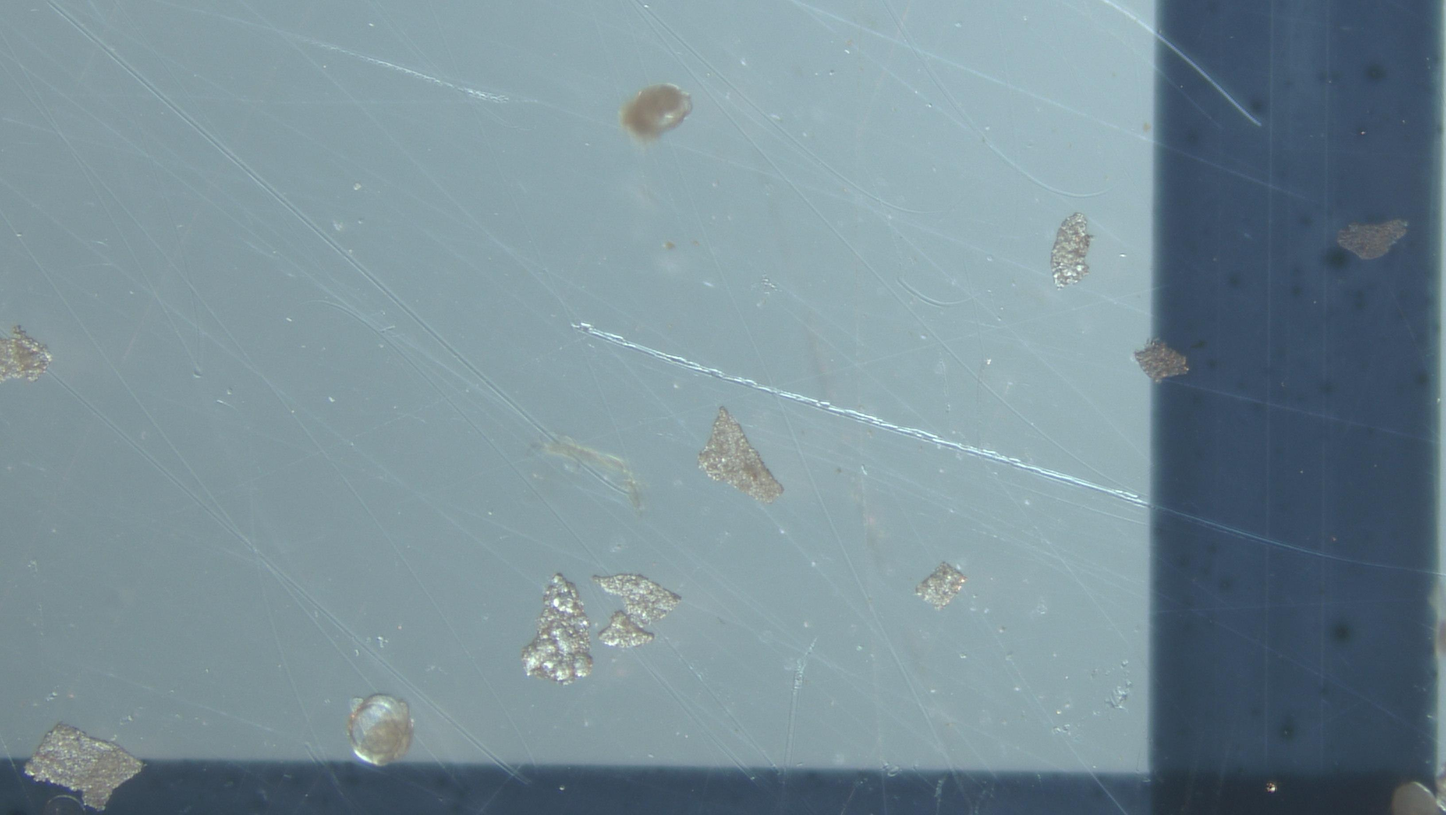live: (348, 694, 414, 765), (621, 85, 692, 142)
